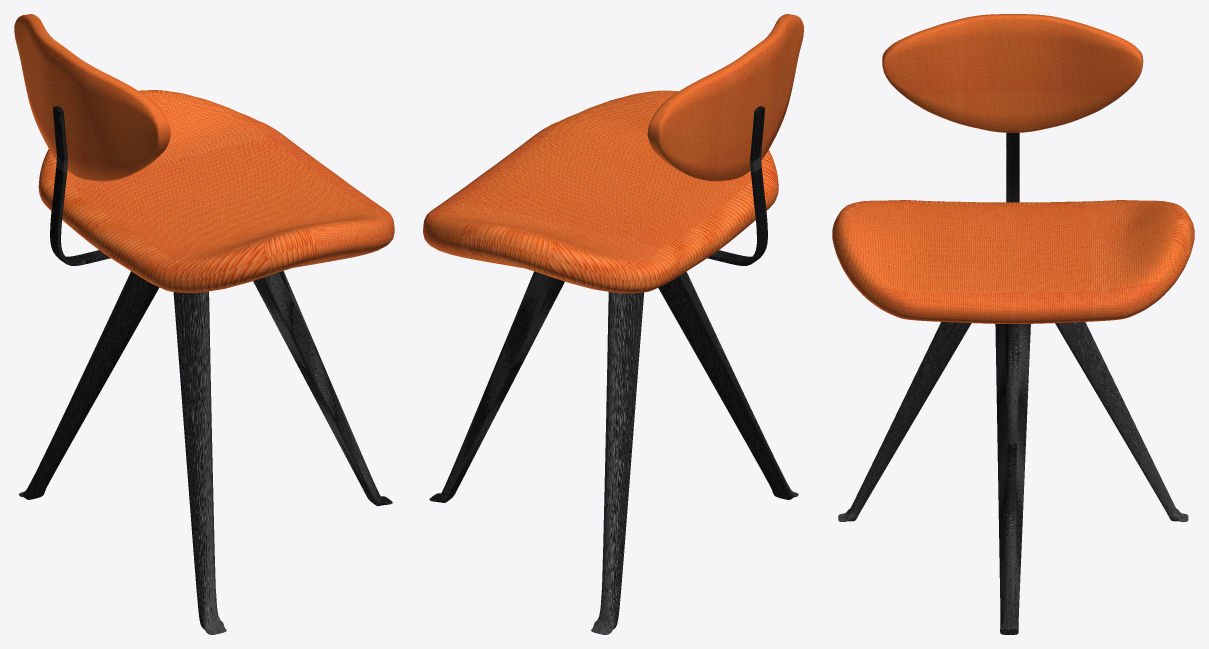
File: Gazelle.glb
3 renders of one model, left to right at view 1: azimuth 30°, elevation 25°; view 2: azimuth 150°, elevation 25°; view 3: azimuth 270°, elevation 25°, orthographic. The views are drawn at different scales.
Visible parts, largest first — view 1: Seat, Headrest, Leg_Side_Left, Leg_Side_Right, Leg_Front, Spine; view 2: Seat, Headrest, Leg_Side_Right, Leg_Side_Left, Leg_Front, Spine; view 3: Seat, Headrest, Leg_Front, Leg_Side_Left, Leg_Side_Right, Spine.
Boxes of the visible parts, <box> form: Seat: <box>38,90,394,292</box>; Headrest: <box>14,14,170,181</box>; Leg_Side_Left: <box>173,291,226,634</box>; Leg_Side_Right: <box>18,271,159,499</box>; Leg_Front: <box>253,271,392,505</box>; Spine: <box>50,106,110,265</box>; Seat: <box>423,90,778,293</box>; Headrest: <box>647,14,803,181</box>; Leg_Side_Right: <box>591,292,644,634</box>; Leg_Side_Left: <box>658,271,798,499</box>; Leg_Front: <box>429,271,564,502</box>; Spine: <box>707,106,767,265</box>; Seat: <box>832,200,1194,323</box>; Headrest: <box>882,14,1143,132</box>; Leg_Front: <box>995,324,1030,634</box>; Leg_Side_Left: <box>838,322,971,521</box>; Leg_Side_Right: <box>1055,322,1188,521</box>; Spine: <box>1006,132,1019,202</box>.
Size of the model in its own units: 7.29 by 11.02 by 7.58.
Materials: 2 (2 with a texture image).
